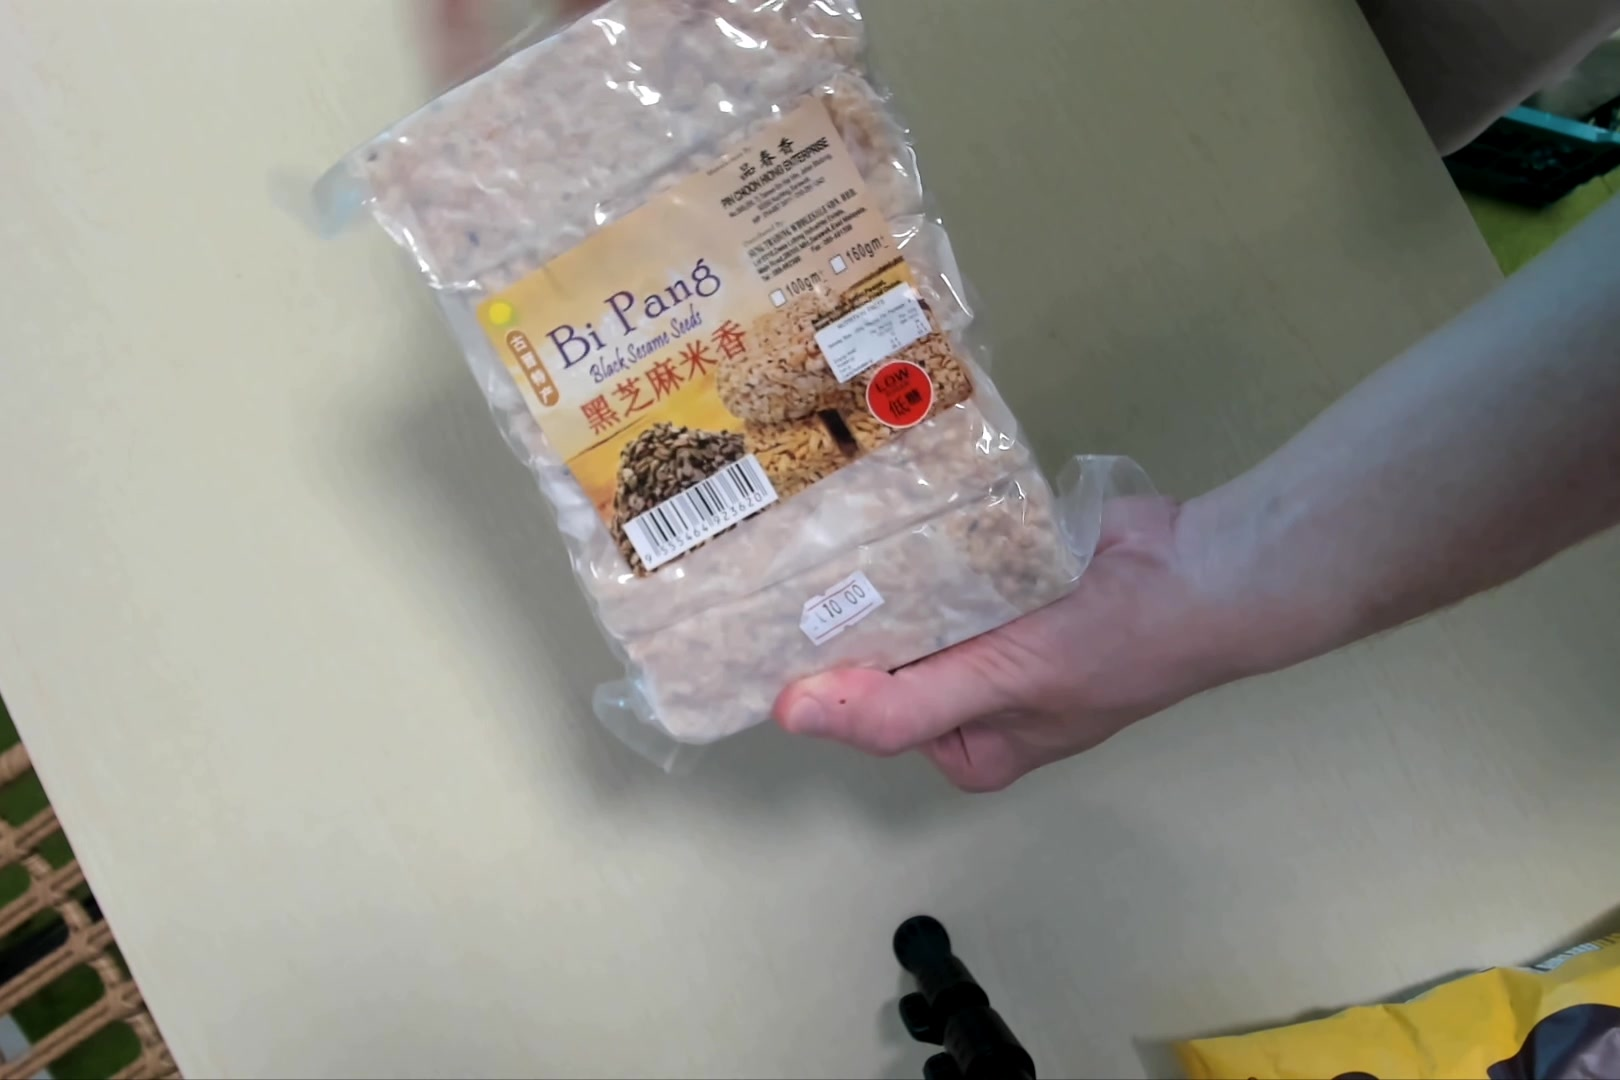PotatoChipsKeropok_100-199g_NonHalal_NonHealthy: (356, 8, 1086, 724)
